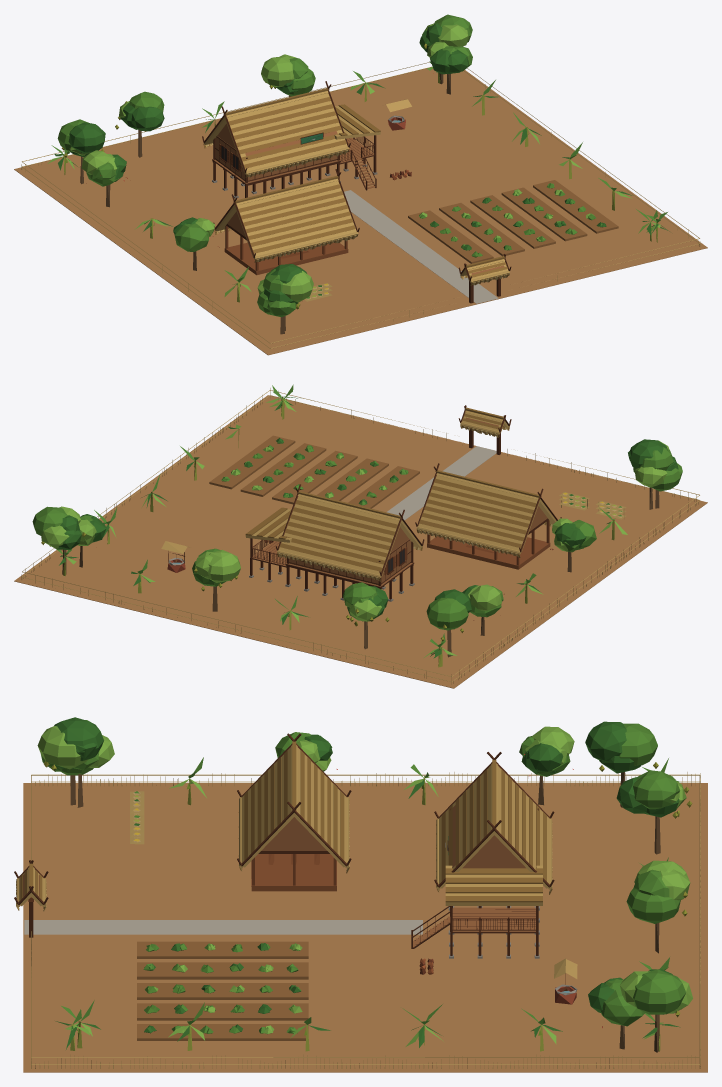
Rendered from hospital.glb.
3 views of the same model, one above another, from view 1: azimuth 30°, elevation 25°; view 2: azimuth 150°, elevation 25°; view 3: azimuth 270°, elevation 25° (orthographic). The views are drawn at different scales.
Visible parts, largest first — view 1: body; view 2: body; view 3: body.
Boxes of the visible parts, x1,y1,x2,y2 form: body: [14, 14, 707, 355]; body: [14, 384, 707, 688]; body: [14, 717, 707, 1072].
Size of the model in its own units: 47.9 by 9.23 by 48.56.
